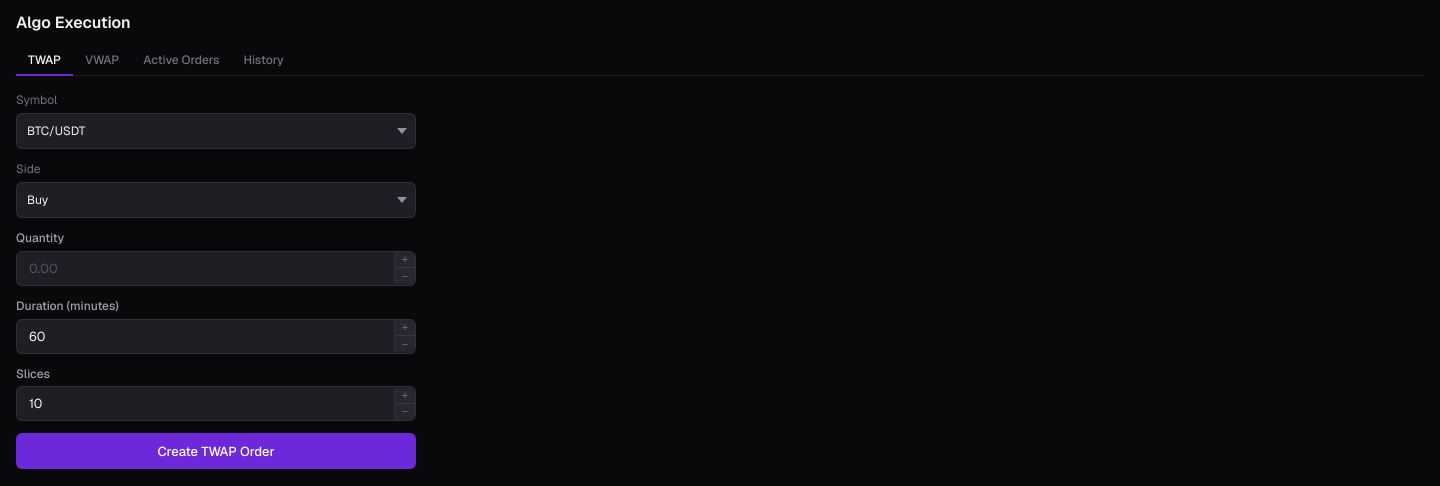
Test: AlgoPage › active orders tab shows running orders with Cancel button
The image size is (1440, 486).
What coordinates should you click on to do the following:
click the tab "Active Orders"
I would click on:
 (181, 61)
Its box is [131,46,232,76].
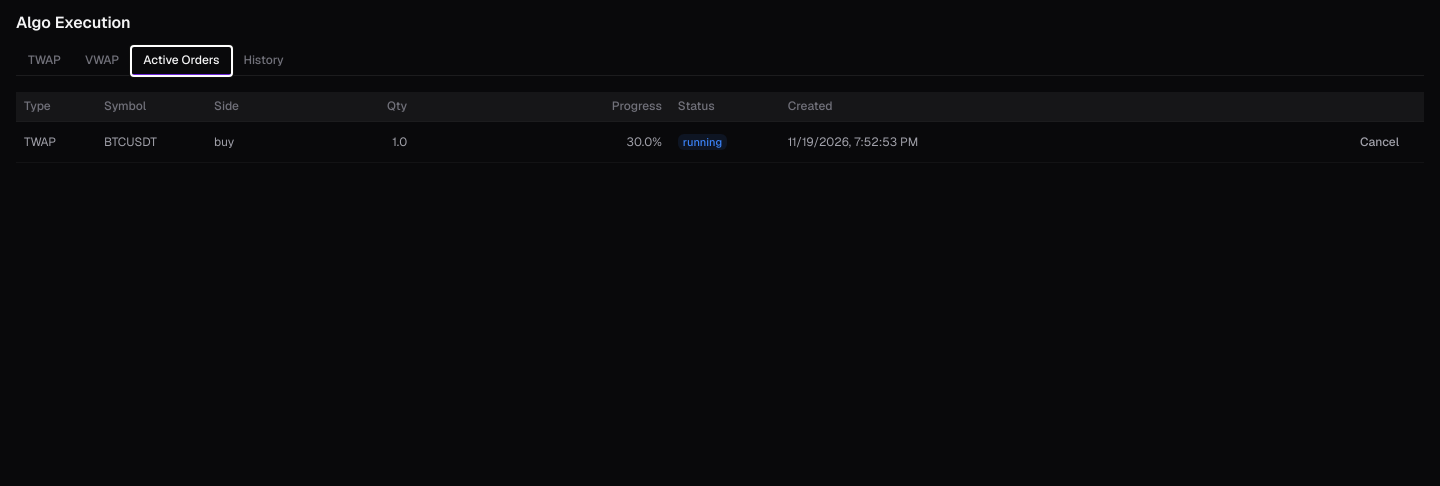
Expected: the text "BTCUSDT" is shown, [96,122,206,163]
Expected: the button "Cancel" is shown, [1352,128,1407,156]
